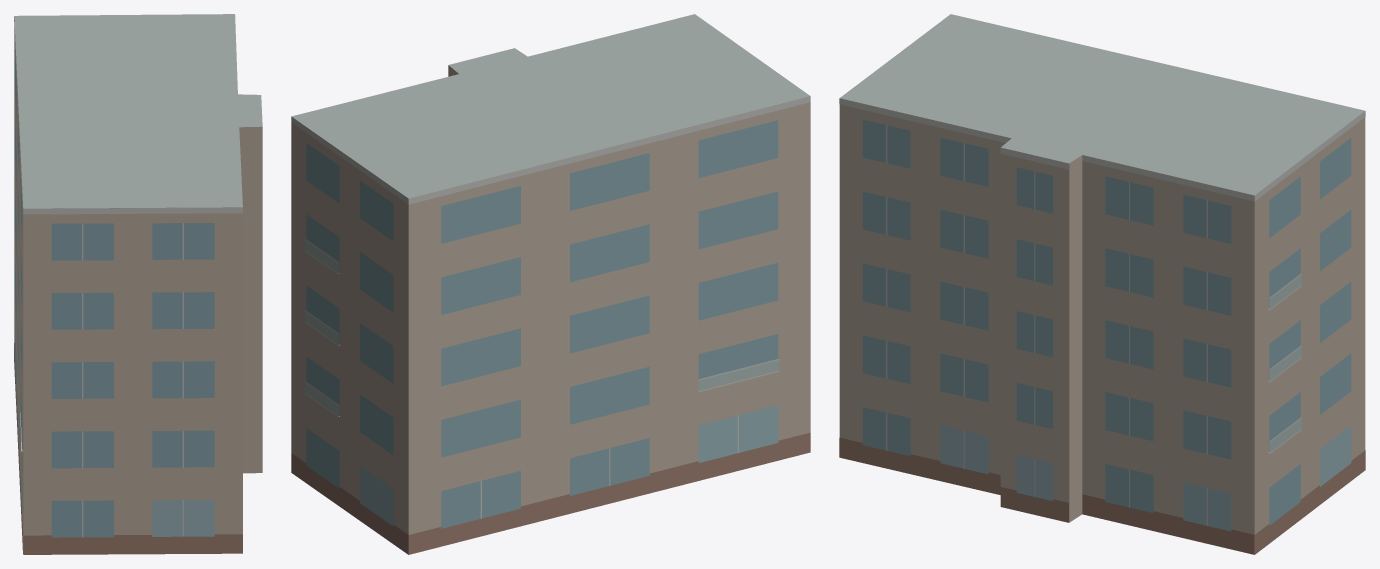
The model's file is survey-upis-32869807.glb.
3 renders of one model, left to right at view 1: azimuth 30°, elevation 25°; view 2: azimuth 150°, elevation 25°; view 3: azimuth 270°, elevation 25°, orthographic. The views are drawn at different scales.
Parts seen in each view (by area): view 1: survey-upis-32869807.tmp; view 2: survey-upis-32869807.tmp; view 3: survey-upis-32869807.tmp.
Boxes of the visible parts, x1,y1,x2,y2 form: survey-upis-32869807.tmp: (14, 14, 262, 554); survey-upis-32869807.tmp: (291, 14, 810, 554); survey-upis-32869807.tmp: (839, 14, 1365, 554).
Size of the model in its own units: 15.66 by 14.45 by 19.18.
